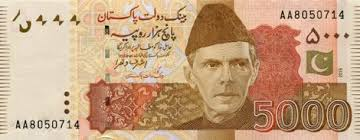5000 rupee: (6, 3, 357, 140)
